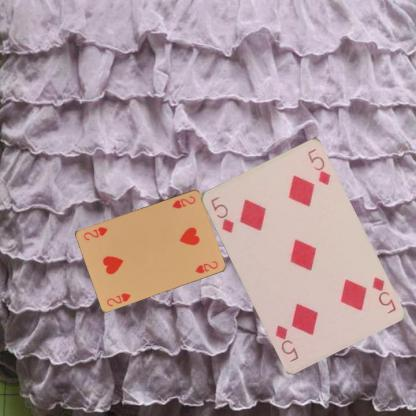2h: (104, 289, 132, 308), (170, 193, 196, 210)
5d: (208, 193, 235, 236), (369, 274, 396, 315)
